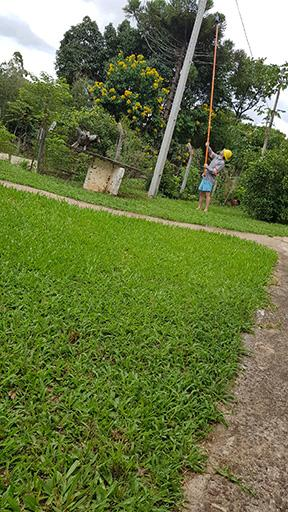Vara_Manobra: (204, 23, 219, 177)
